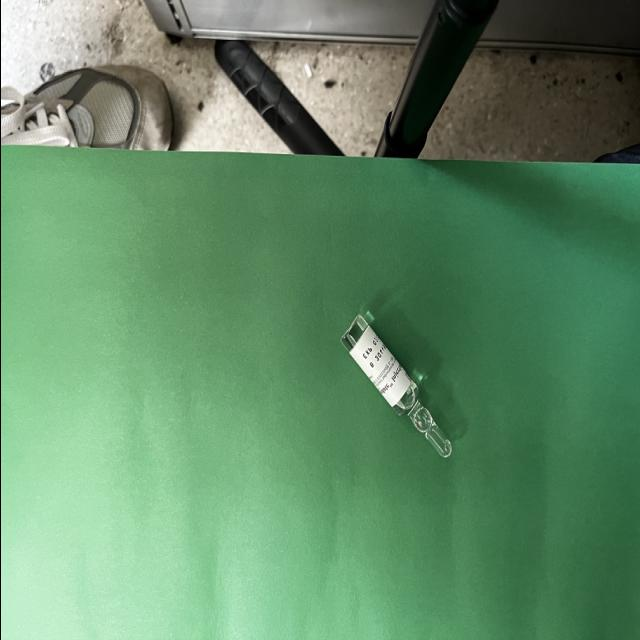Ampoules: (340, 314, 452, 458)
